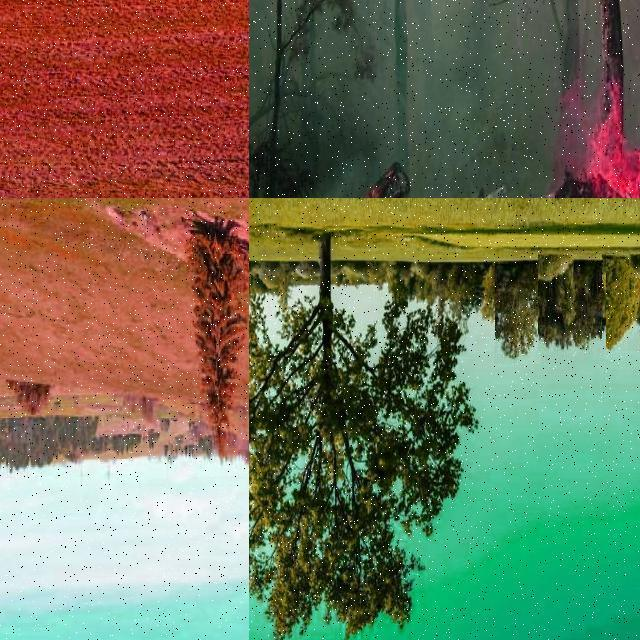tree: (248, 236, 472, 636), (249, 0, 391, 198), (174, 206, 250, 442), (538, 254, 602, 354), (495, 264, 541, 364), (606, 254, 640, 370), (249, 260, 263, 340)
